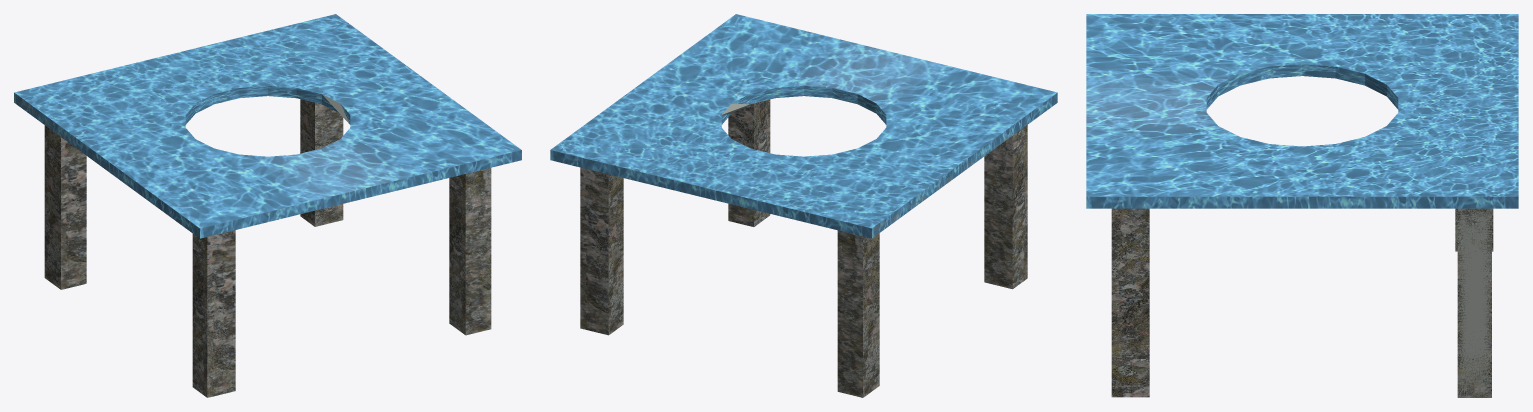
The picture shows the model from 3 angles, left to right: view 1: azimuth 30°, elevation 25°; view 2: azimuth 150°, elevation 25°; view 3: azimuth 270°, elevation 25°; orthographic projection. The views are drawn at different scales.
Visible parts, largest first — view 1: Table_0; view 2: Table_0; view 3: Table_0.
Boxes of the visible parts, x1=… form: Table_0: x1=14, y1=14, x2=521, y2=397; Table_0: x1=550, y1=14, x2=1057, y2=397; Table_0: x1=1086, y1=14, x2=1518, y2=397.
Bounding box in the file's own units: 1 × 0.5414 × 1.
